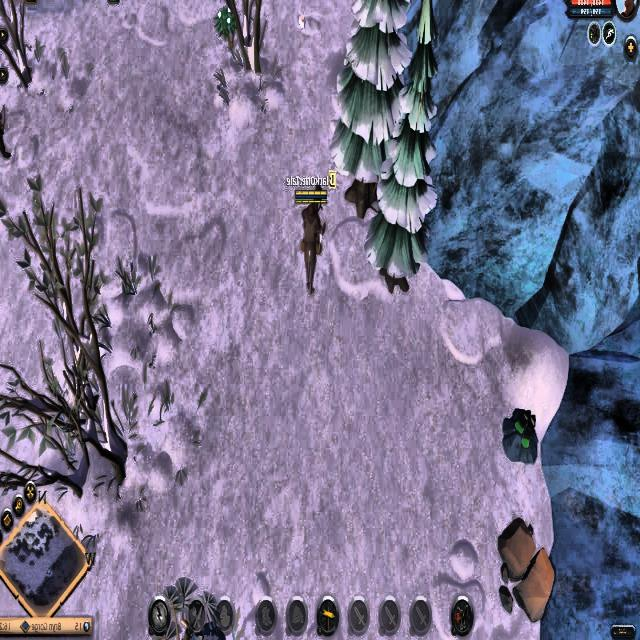limestone: (496, 510, 556, 622)
tinore: (502, 400, 542, 466)
